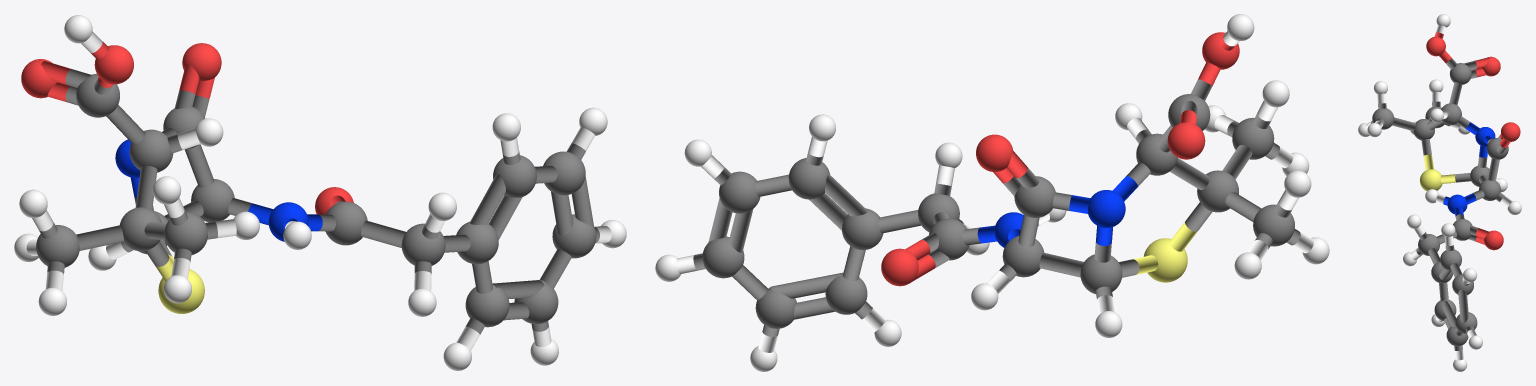
The model's file is penicillin.glb.
3 renders of one model, left to right at view 1: azimuth 30°, elevation 25°; view 2: azimuth 150°, elevation 25°; view 3: azimuth 270°, elevation 25°, orthographic. The views are drawn at different scales.
Parts seen in each view (by area): view 1: penicilin; view 2: penicilin; view 3: penicilin.
Part boxes in pixels (box(x1,y1,x2,y2)): penicilin: box(14, 15, 626, 370); penicilin: box(655, 14, 1329, 371); penicilin: box(1358, 14, 1521, 371).
Bounding box in the file's own units: 13.2 × 9.37 × 5.82.
